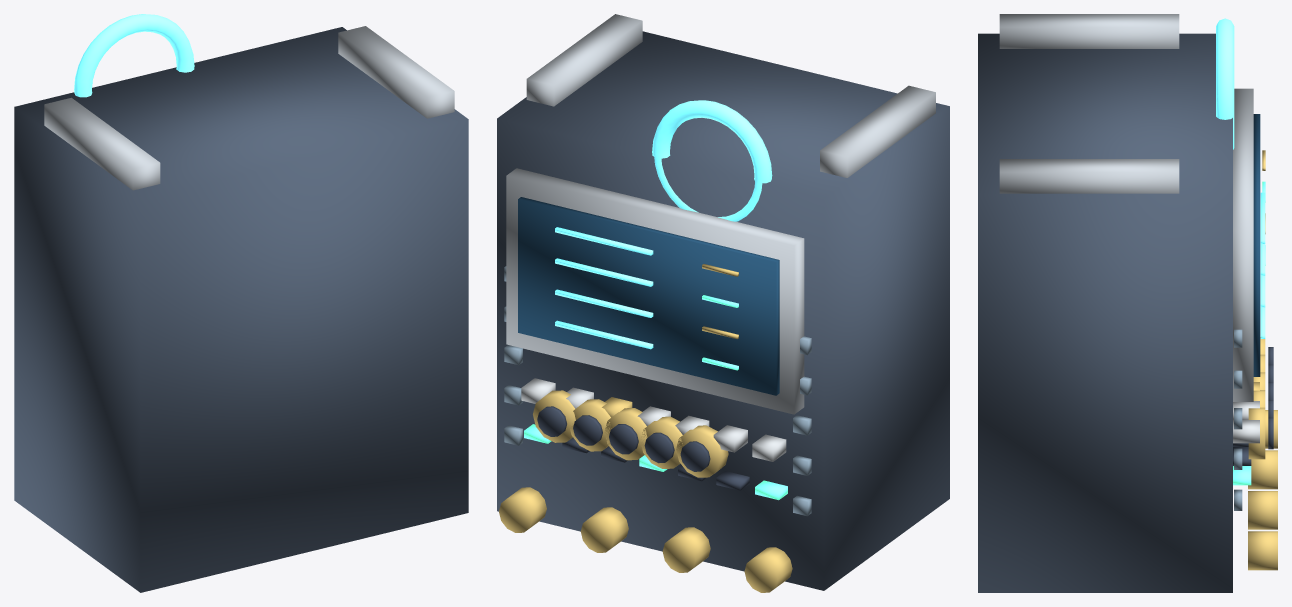
Rendered from L85_47_RelativeTrajectoryPlanningComputer_Fitted.fbx.
3 views of the same model, side by side, from view 1: azimuth 30°, elevation 25°; view 2: azimuth 150°, elevation 25°; view 3: azimuth 270°, elevation 25° (orthographic).
Parts seen in each view (by area): view 1: L85_RelativeTrajectoryPlanningComputer_Static__tint1A2434, L85_RelativeTrajectoryPlanningComputer_Static__tintA8B8C7, L85_RelativeTrajectoryPlanningComputer_ANIM_TRAJECTORY_PLANN; view 2: L85_RelativeTrajectoryPlanningComputer_Static__tint1A2434, L85_RelativeTrajectoryPlanningComputer_Static__tint071C3B, L85_RelativeTrajectoryPlanningComputer_Static__tintA8B8C7, L85_RelativeTrajectoryPlanningComputer_Static__tintF7B83D, L85_RelativeTrajectoryPlanningComputer_Static__tint111724, L85_RelativeTrajectoryPlanningComputer_ANIM_TRAJECTORY_PLANN, L85_RelativeTrajectoryPlanningComputer_Static__tintCCD9E3, L85_RelativeTrajectoryPlanningComputer_Static__tint2ED9FA, L85_RelativeTrajectoryPlanningComputer_Static__tint527391, L85_RelativeTrajectoryPlanningComputer_Static__tint24F09C; view 3: L85_RelativeTrajectoryPlanningComputer_Static__tint1A2434, L85_RelativeTrajectoryPlanningComputer_Static__tintA8B8C7, L85_RelativeTrajectoryPlanningComputer_Static__tintF7B83D, L85_RelativeTrajectoryPlanningComputer_Static__tint071C3B, L85_RelativeTrajectoryPlanningComputer_ANIM_TRAJECTORY_PLANN, L85_RelativeTrajectoryPlanningComputer_Static__tint527391, L85_RelativeTrajectoryPlanningComputer_Static__tint2ED9FA, L85_RelativeTrajectoryPlanningComputer_Static__tint111724, L85_RelativeTrajectoryPlanningComputer_Static__tintCCD9E3, L85_RelativeTrajectoryPlanningComputer_Static__tint24F09C.
Part boxes in pixels (x1,y1,x2,y2): L85_RelativeTrajectoryPlanningComputer_Static__tint1A2434: (14, 27, 468, 592); L85_RelativeTrajectoryPlanningComputer_Static__tintA8B8C7: (44, 26, 454, 190); L85_RelativeTrajectoryPlanningComputer_ANIM_TRAJECTORY_PLANN: (74, 14, 194, 97); L85_RelativeTrajectoryPlanningComputer_Static__tint1A2434: (497, 31, 949, 590); L85_RelativeTrajectoryPlanningComputer_Static__tint071C3B: (518, 197, 779, 395); L85_RelativeTrajectoryPlanningComputer_Static__tintA8B8C7: (506, 14, 935, 414); L85_RelativeTrajectoryPlanningComputer_Static__tintF7B83D: (499, 264, 792, 592); L85_RelativeTrajectoryPlanningComputer_Static__tint111724: (537, 406, 749, 490); L85_RelativeTrajectoryPlanningComputer_ANIM_TRAJECTORY_PLANN: (652, 100, 772, 221); L85_RelativeTrajectoryPlanningComputer_Static__tintCCD9E3: (521, 378, 786, 461); L85_RelativeTrajectoryPlanningComputer_Static__tint2ED9FA: (555, 227, 653, 349); L85_RelativeTrajectoryPlanningComputer_Static__tint527391: (504, 266, 811, 516); L85_RelativeTrajectoryPlanningComputer_Static__tint24F09C: (524, 295, 787, 500); L85_RelativeTrajectoryPlanningComputer_Static__tint1A2434: (978, 33, 1232, 592); L85_RelativeTrajectoryPlanningComputer_Static__tintA8B8C7: (999, 14, 1253, 401); L85_RelativeTrajectoryPlanningComputer_Static__tintF7B83D: (1248, 150, 1277, 570); L85_RelativeTrajectoryPlanningComputer_Static__tint071C3B: (1253, 114, 1260, 376); L85_RelativeTrajectoryPlanningComputer_ANIM_TRAJECTORY_PLANN: (1216, 18, 1234, 149); L85_RelativeTrajectoryPlanningComputer_Static__tint527391: (1234, 329, 1242, 510); L85_RelativeTrajectoryPlanningComputer_Static__tint2ED9FA: (1260, 192, 1265, 338); L85_RelativeTrajectoryPlanningComputer_Static__tint111724: (1233, 347, 1273, 465); L85_RelativeTrajectoryPlanningComputer_Static__tintCCD9E3: (1233, 401, 1259, 443); L85_RelativeTrajectoryPlanningComputer_Static__tint24F09C: (1233, 181, 1265, 485).
Bounding box in the file's own units: 9.2 × 12.32 × 7.22.
